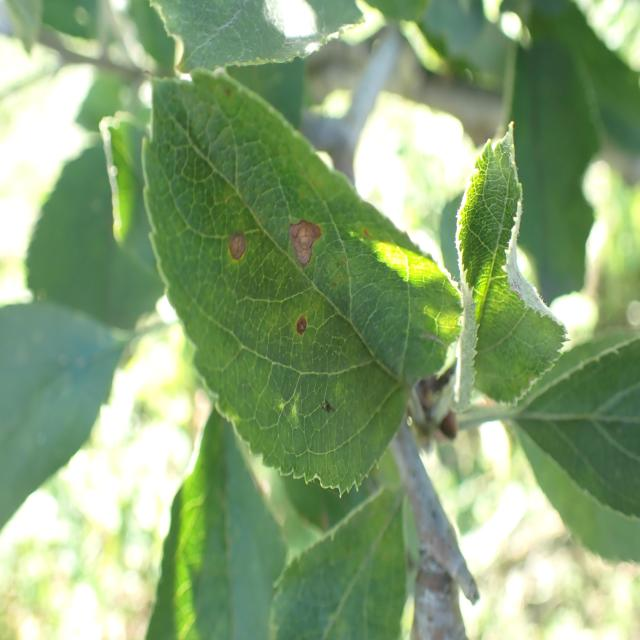frog-eye-leaf-spot: (140, 68, 463, 503)
